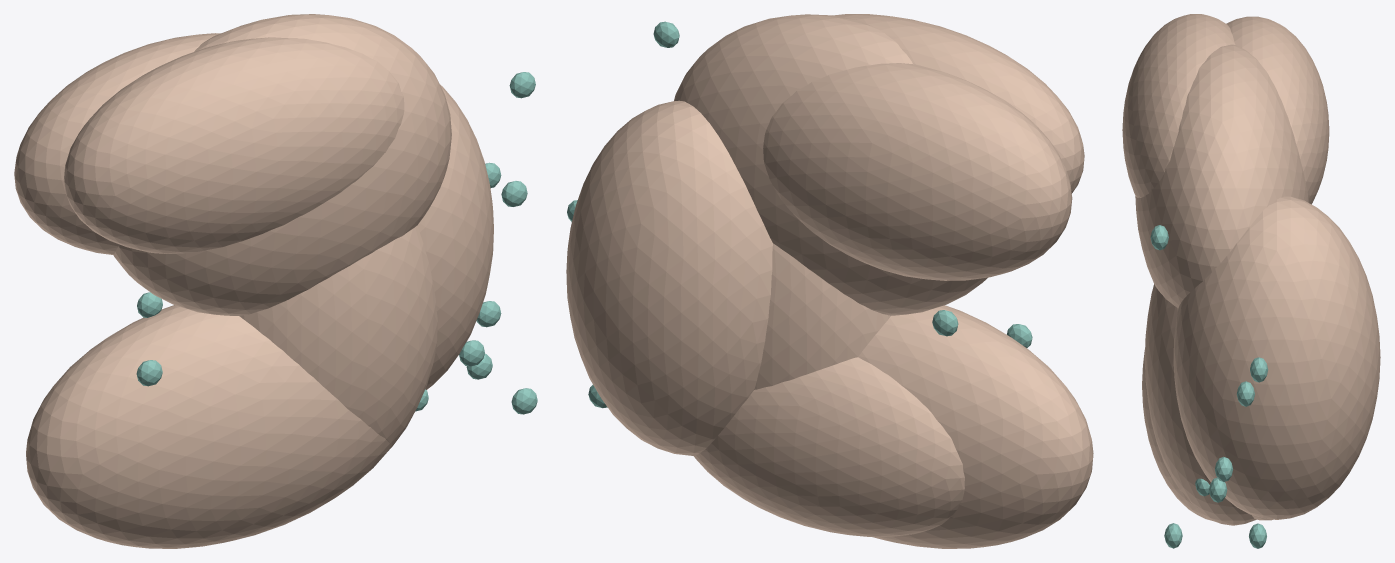
The model's file is Aquarion_Brain_Coral_Colony.glb.
3 views of the same model, side by side, from view 1: azimuth 30°, elevation 25°; view 2: azimuth 150°, elevation 25°; view 3: azimuth 270°, elevation 25° (orthographic). The views are drawn at different scales.
Parts seen in each view (by area): view 1: Aquarion_Brain_Coral_Colony_lobule1, Aquarion_Brain_Coral_Colony_lobule0, Aquarion_Brain_Coral_Colony_lobule6, Aquarion_Brain_Coral_Colony_lobule5, Aquarion_Brain_Coral_Colony_lobule3, Aquarion_Brain_Coral_Colony_lobule2; view 2: Aquarion_Brain_Coral_Colony_lobule3, Aquarion_Brain_Coral_Colony_lobule2, Aquarion_Brain_Coral_Colony_lobule4, Aquarion_Brain_Coral_Colony_lobule1, Aquarion_Brain_Coral_Colony_lobule6, Aquarion_Brain_Coral_Colony_lobule5, Aquarion_Brain_Coral_Colony_lobule0; view 3: Aquarion_Brain_Coral_Colony_lobule3, Aquarion_Brain_Coral_Colony_lobule6, Aquarion_Brain_Coral_Colony_lobule0, Aquarion_Brain_Coral_Colony_lobule2, Aquarion_Brain_Coral_Colony_lobule5, Aquarion_Brain_Coral_Colony_lobule1, Aquarion_Brain_Coral_Colony_polyp5, Aquarion_Brain_Coral_Colony_polyp22, Aquarion_Brain_Coral_Colony_polyp0, Aquarion_Brain_Coral_Colony_polyp1, Aquarion_Brain_Coral_Colony_polyp18, Aquarion_Brain_Coral_Colony_polyp29 (+1 smaller).
Part boxes in pixels (box(x1,y1,x2,y2)): Aquarion_Brain_Coral_Colony_lobule1: box(26, 305, 391, 548); Aquarion_Brain_Coral_Colony_lobule0: box(64, 37, 404, 253); Aquarion_Brain_Coral_Colony_lobule6: box(113, 14, 451, 315); Aquarion_Brain_Coral_Colony_lobule5: box(239, 225, 437, 450); Aquarion_Brain_Coral_Colony_lobule3: box(417, 84, 493, 389); Aquarion_Brain_Coral_Colony_lobule2: box(14, 33, 220, 254); Aquarion_Brain_Coral_Colony_lobule3: box(566, 100, 772, 455); Aquarion_Brain_Coral_Colony_lobule2: box(763, 63, 1072, 280); Aquarion_Brain_Coral_Colony_lobule4: box(693, 357, 964, 536); Aquarion_Brain_Coral_Colony_lobule1: box(858, 305, 1093, 548); Aquarion_Brain_Coral_Colony_lobule6: box(674, 14, 987, 315); Aquarion_Brain_Coral_Colony_lobule5: box(754, 243, 890, 389); Aquarion_Brain_Coral_Colony_lobule0: box(832, 14, 1084, 193); Aquarion_Brain_Coral_Colony_lobule3: box(1173, 196, 1380, 519); Aquarion_Brain_Coral_Colony_lobule6: box(1135, 44, 1308, 308); Aquarion_Brain_Coral_Colony_lobule0: box(1122, 14, 1235, 197); Aquarion_Brain_Coral_Colony_lobule2: box(1226, 16, 1329, 204); Aquarion_Brain_Coral_Colony_lobule5: box(1144, 284, 1256, 525); Aquarion_Brain_Coral_Colony_lobule1: box(1142, 350, 1212, 520); Aquarion_Brain_Coral_Colony_polyp5: box(1164, 523, 1182, 548); Aquarion_Brain_Coral_Colony_polyp22: box(1150, 225, 1168, 250); Aquarion_Brain_Coral_Colony_polyp0: box(1236, 381, 1254, 406); Aquarion_Brain_Coral_Colony_polyp1: box(1215, 456, 1232, 481); Aquarion_Brain_Coral_Colony_polyp18: box(1250, 357, 1268, 382); Aquarion_Brain_Coral_Colony_polyp29: box(1249, 523, 1266, 548).
Size of the model in its own units: 1.45 by 1.36 by 0.7006.
